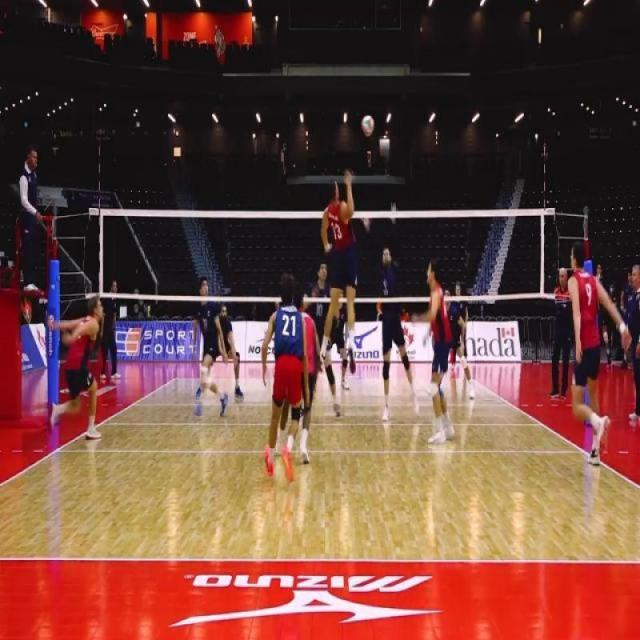volleyball: (362, 114, 374, 138)
